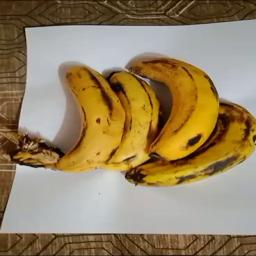Banana Semifresh: (39, 57, 156, 175), (127, 55, 223, 163), (127, 142, 250, 187)
